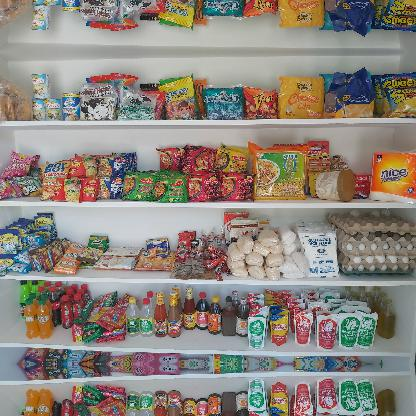Lady-s-Choice: (315, 168, 355, 202)
